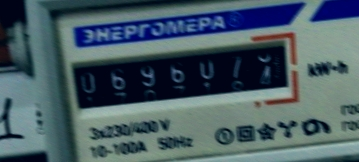0: (77, 66, 97, 91), (196, 51, 214, 78)
4: (255, 60, 273, 85)
6: (107, 62, 127, 88), (167, 55, 186, 81)
7: (227, 50, 244, 77)
9: (137, 59, 156, 85)
screen: (56, 22, 305, 121)
